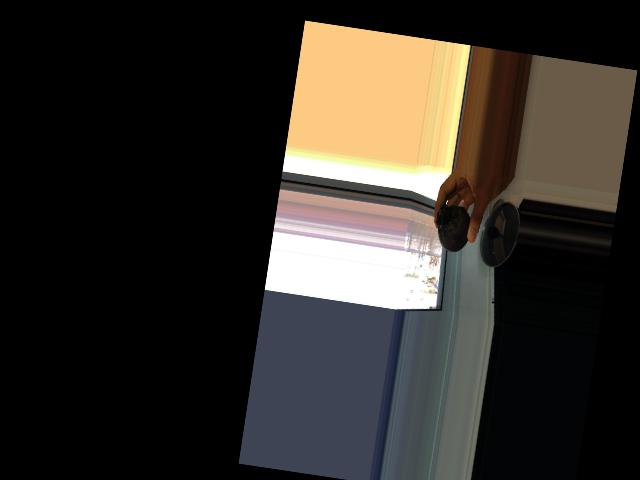beet: (432, 190, 475, 254)
